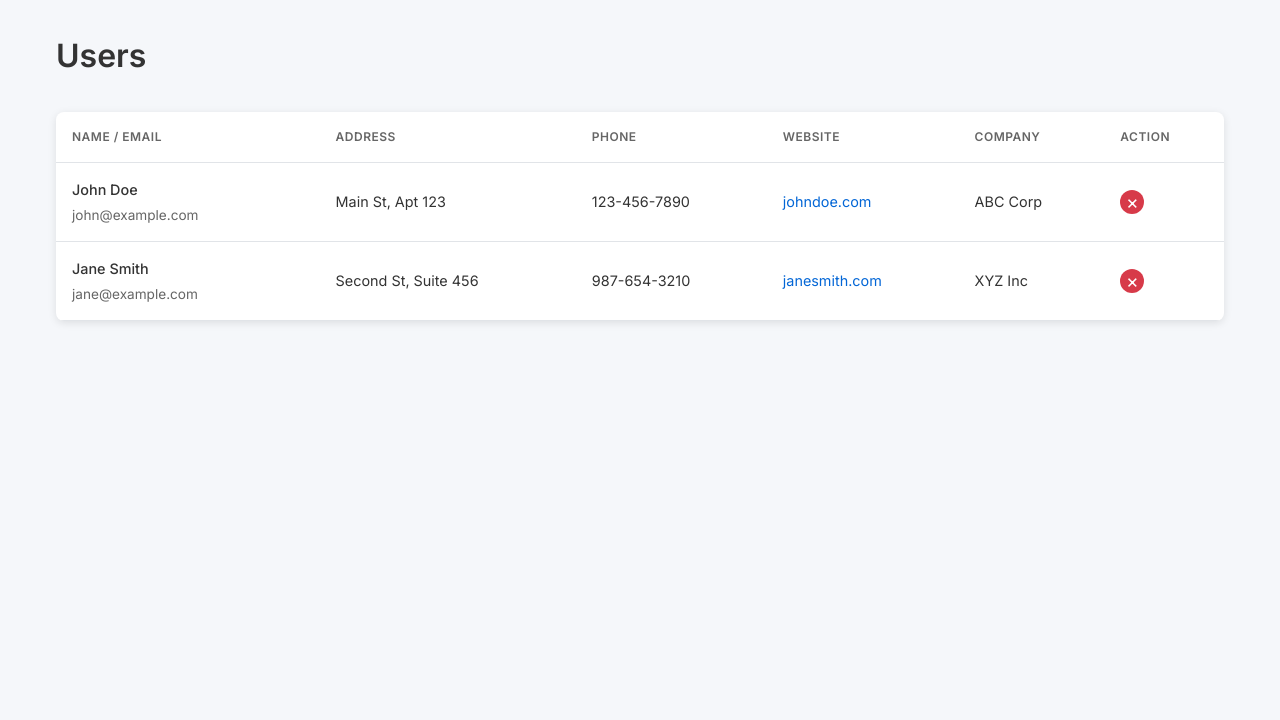
Test: App › opens modal when a user is clicked
Note: Click on a user
Click the text "John Doe": (105, 190) [72,181,138,198]
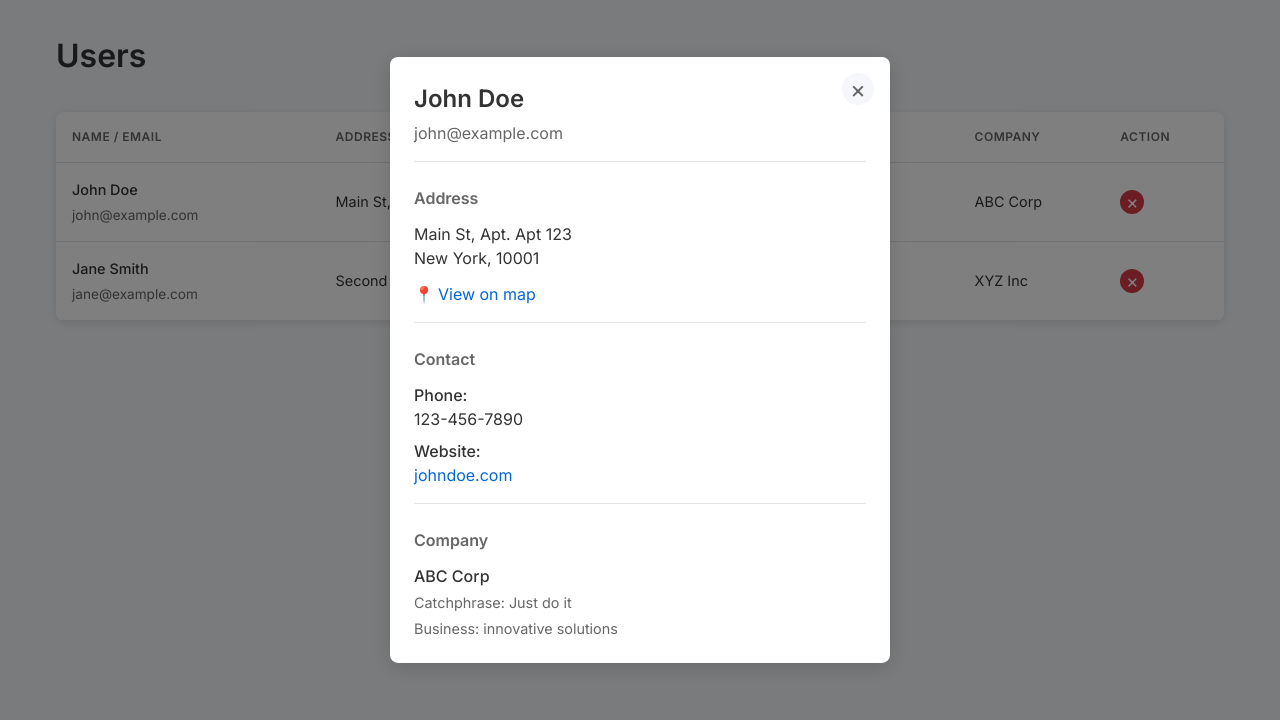
expect the dialog is shown: met, box [390,57,890,663]
expect the text "Catchphrase: Just do it" is shown: met, box [414,594,572,611]
